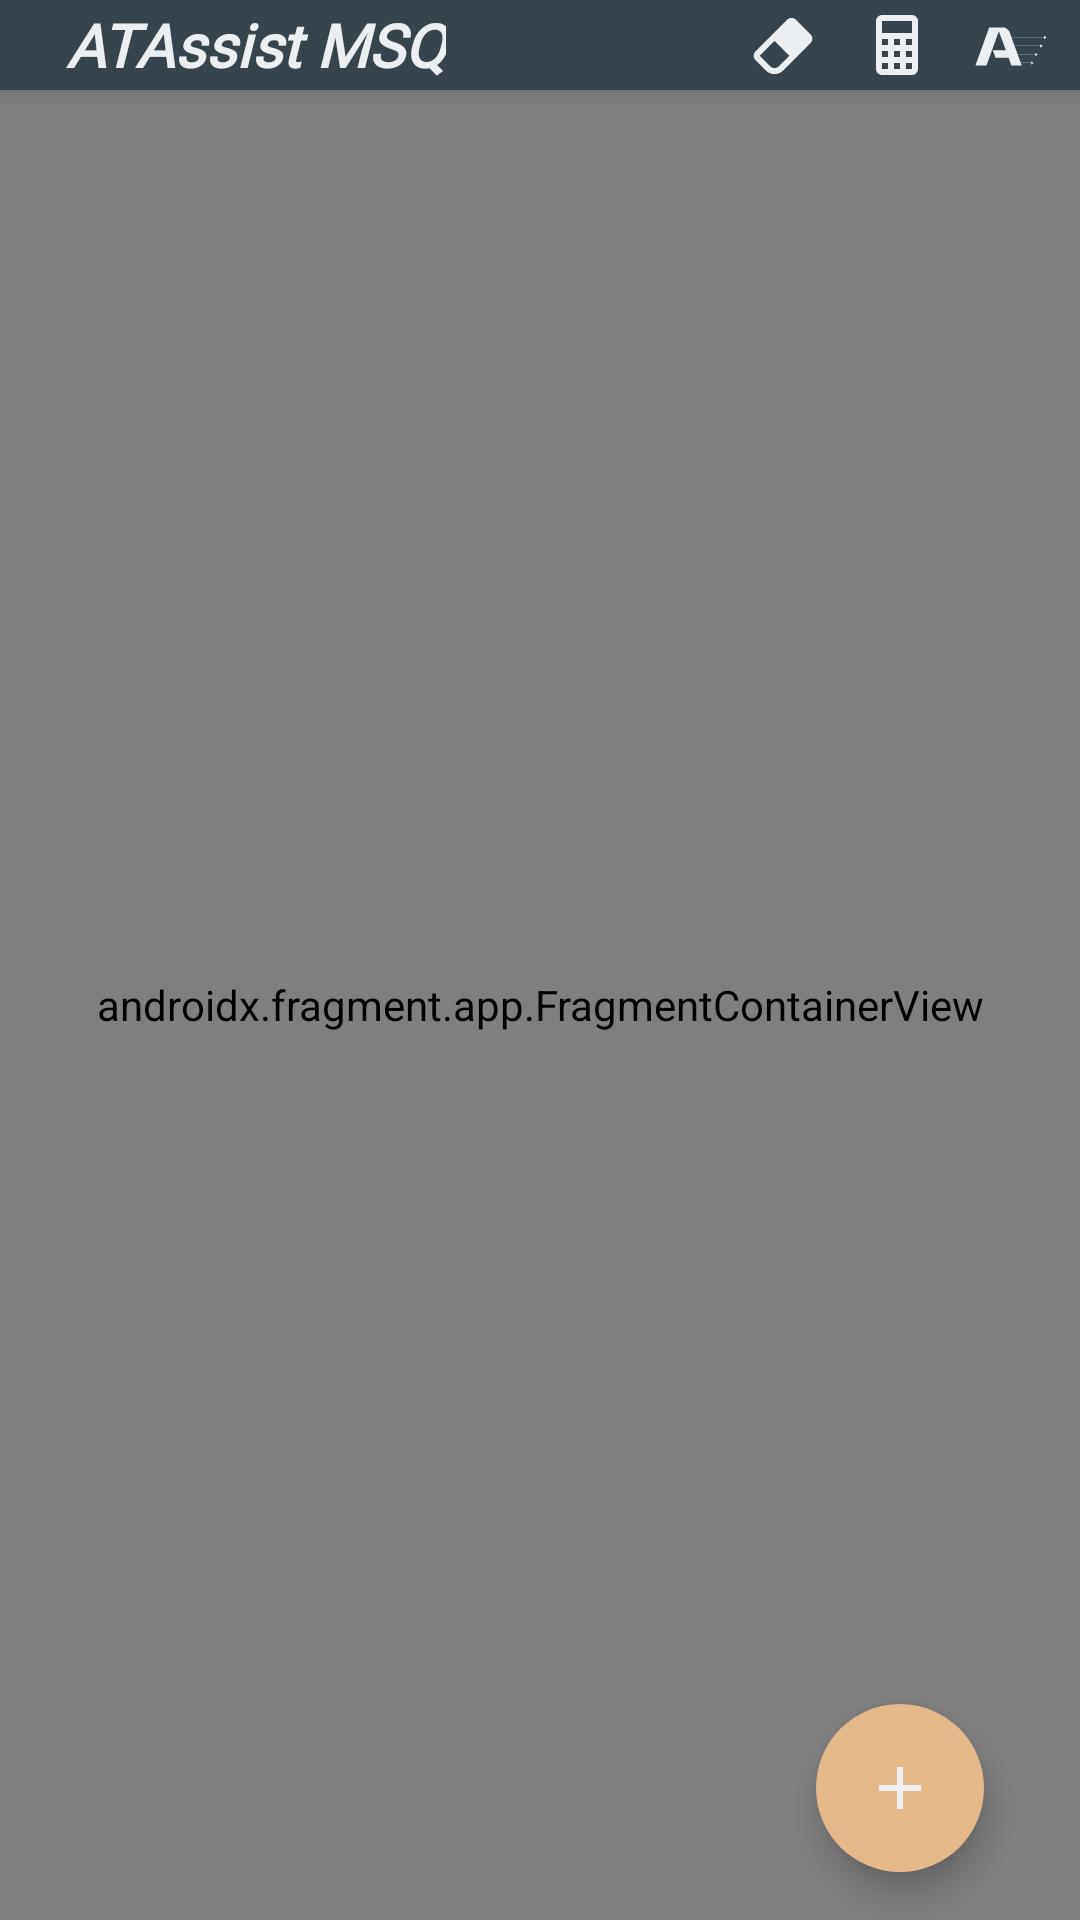

Point at icon controls on the screen. Image size 1080*1920, points as (x=x, y=y).
calculator: (x=897, y=45)
eraser: (x=783, y=46)
